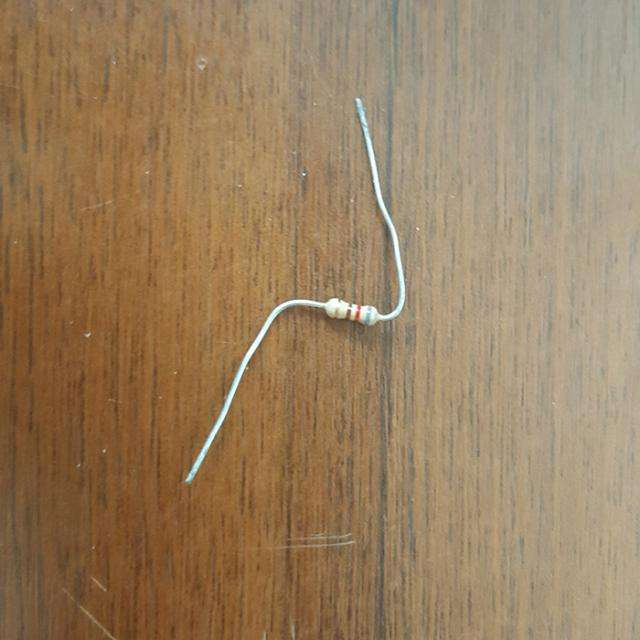brown: (346, 304, 352, 318)
gold: (334, 300, 341, 316)
grey: (365, 308, 372, 322)
red: (355, 305, 361, 321)
resistor: (322, 291, 379, 326)
